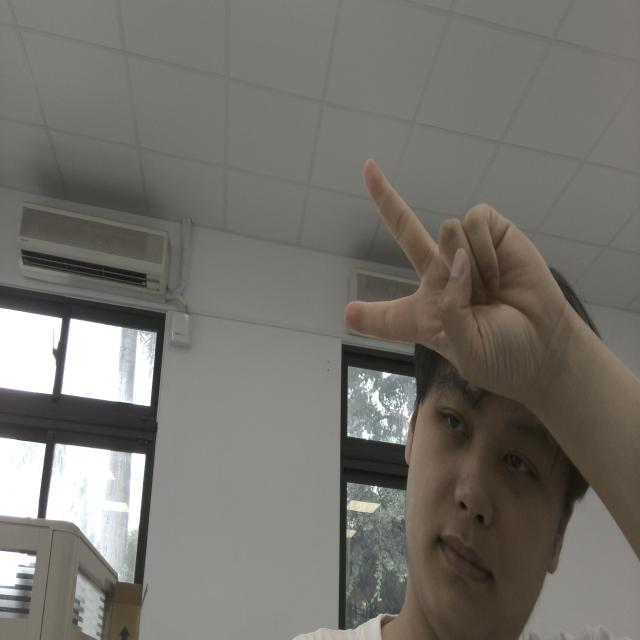Scissors: (324, 132, 572, 416)
